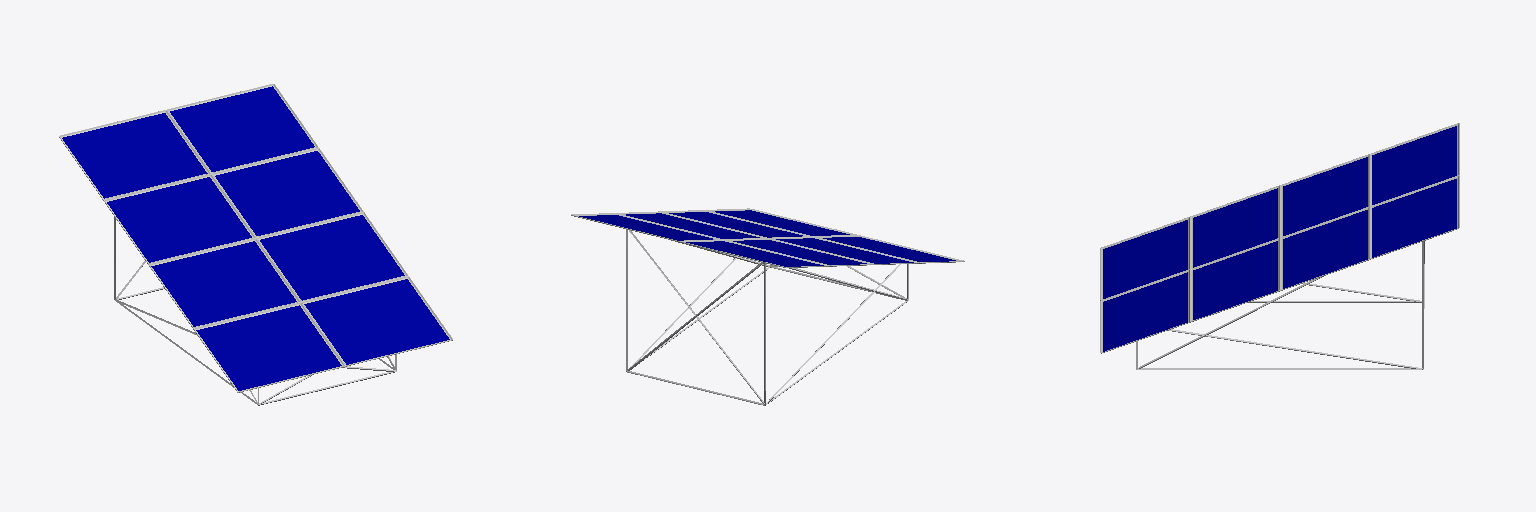
The model's file is Solar_Panel.obj.
3 views of the same model, side by side, from view 1: azimuth 30°, elevation 25°; view 2: azimuth 150°, elevation 25°; view 3: azimuth 270°, elevation 25° (orthographic).
Parts seen in each view (by area): view 1: Cube.001, Cube; view 2: Cube.001, Cube; view 3: Cube.001, Cube.
Part boxes in pixels (x1,y1,x2,y2): Cube.001: (59,84,452,392); Cube: (114,217,396,405); Cube.001: (571,208,964,267); Cube: (626,229,908,405); Cube.001: (1100,123,1459,353); Cube: (1136,241,1424,369).
Bounding box in the file's own units: 3.13 × 2.24 × 4.51.